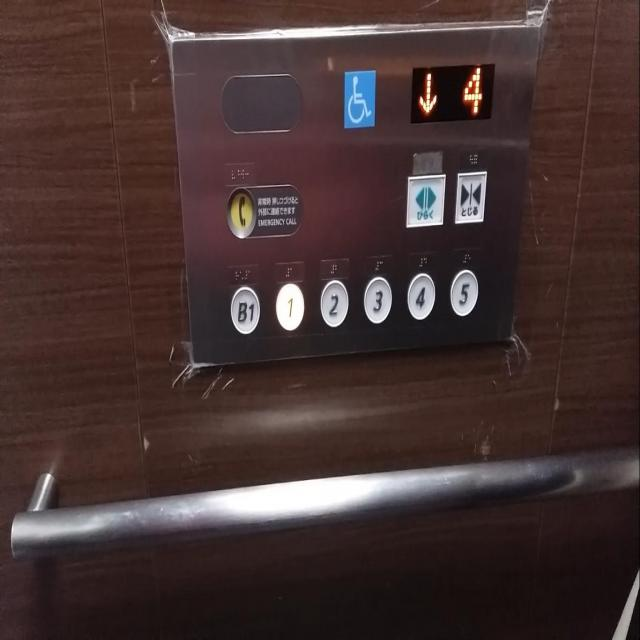1: (275, 282, 304, 329)
2: (320, 279, 349, 327)
3: (363, 275, 392, 324)
4: (406, 271, 435, 320)
5: (449, 268, 478, 316)
B1: (230, 285, 260, 335)
CH: (342, 69, 375, 129)
call: (225, 186, 257, 238)
close: (454, 171, 486, 224)
empty: (220, 73, 303, 132)
led: (411, 64, 494, 122)
open: (405, 172, 446, 228)
